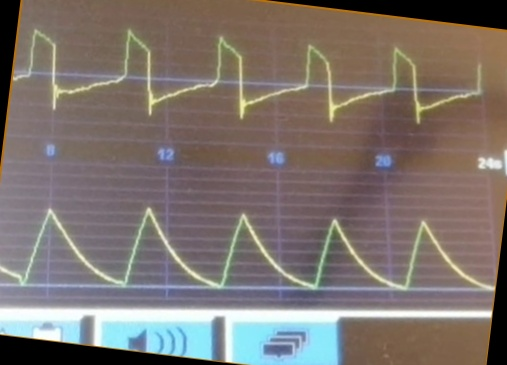Normal Flow: (18, 23, 484, 136)
Normal Volume: (1, 197, 493, 297)
